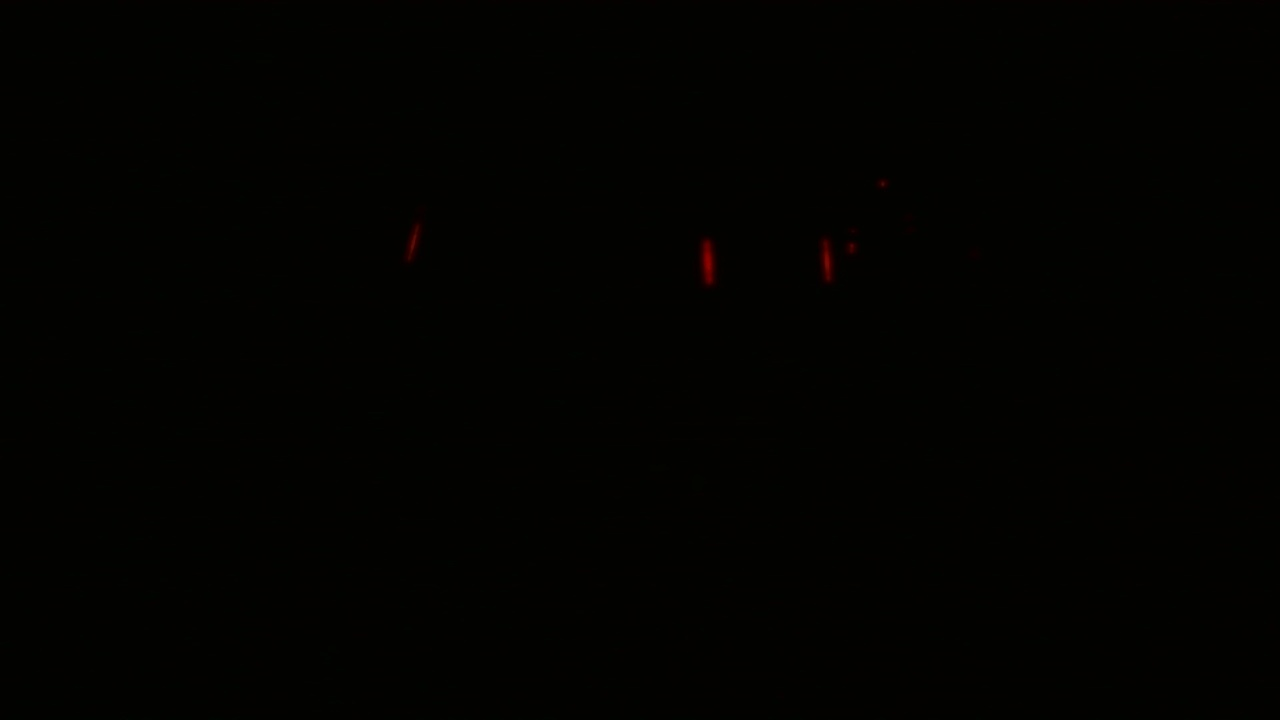pair1: (697, 230, 838, 294)
